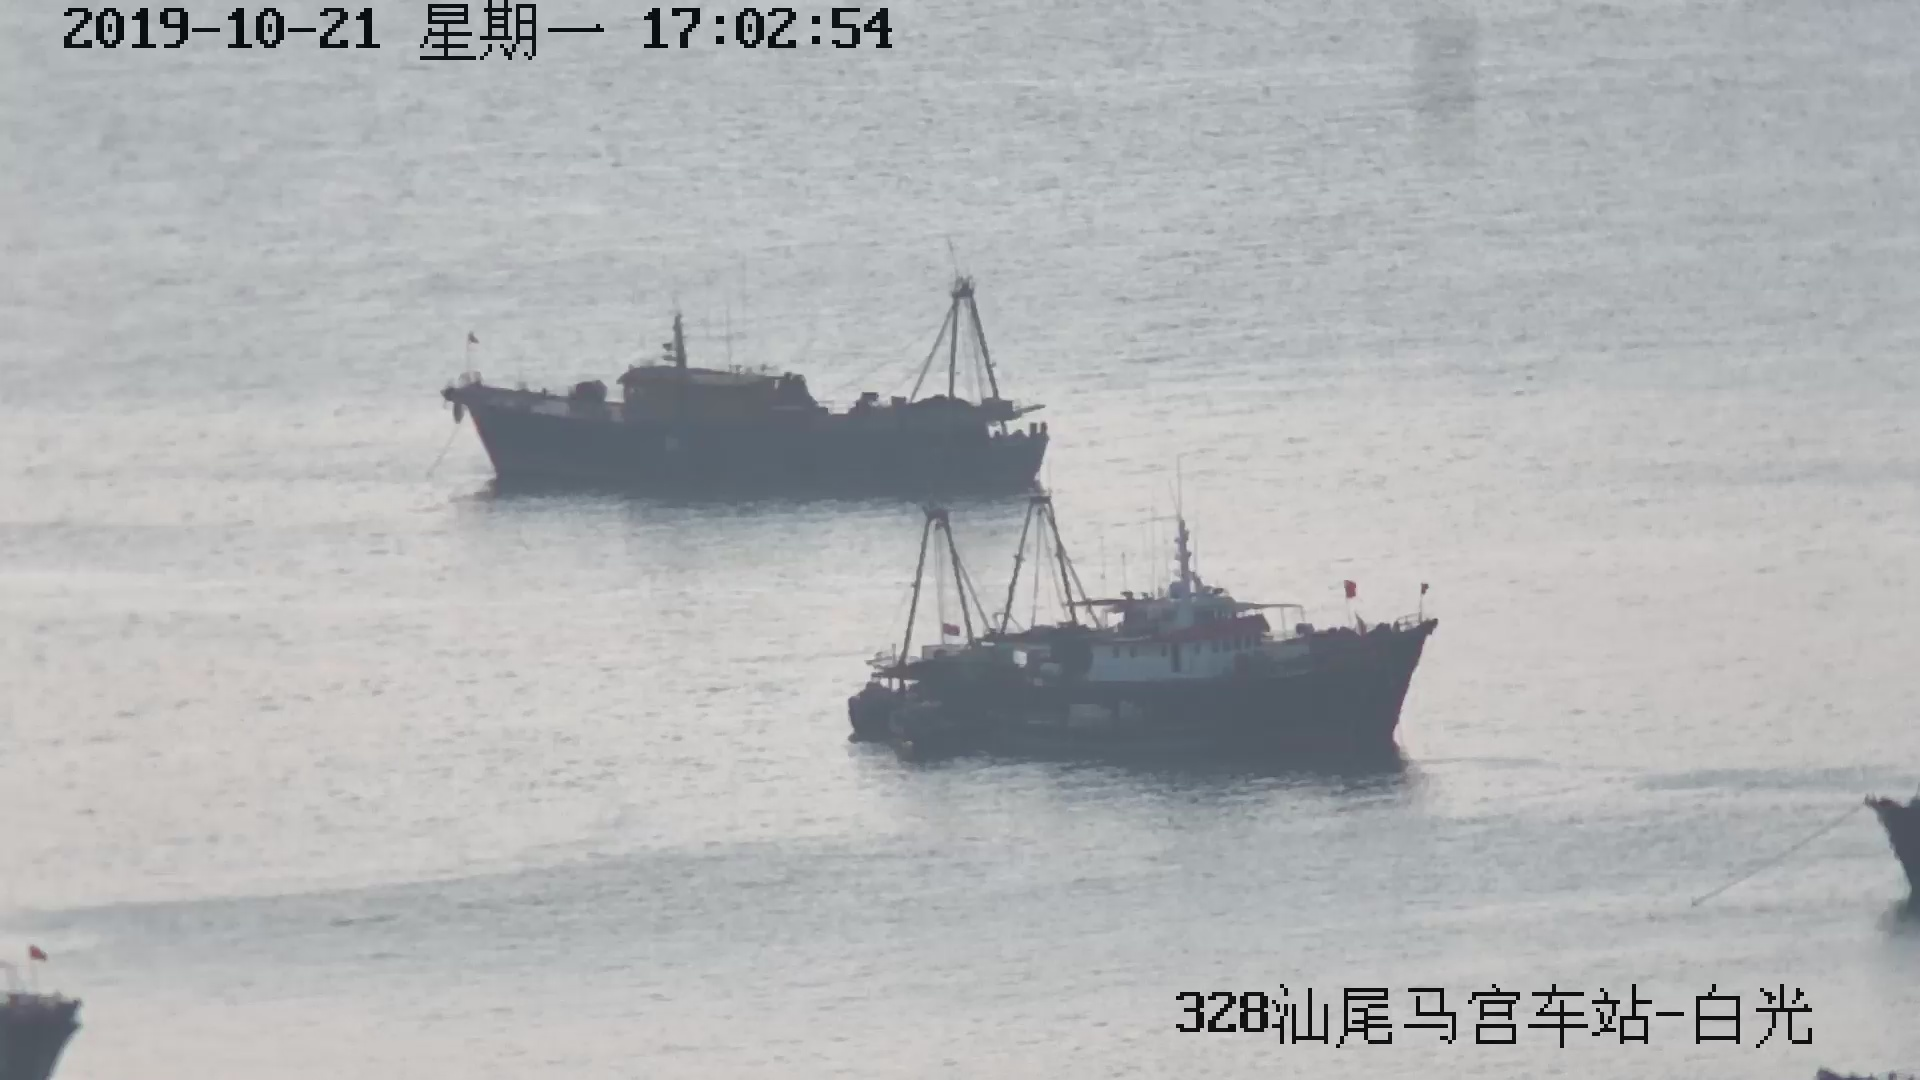ship: (831, 497, 1461, 774), (440, 287, 1081, 491)
